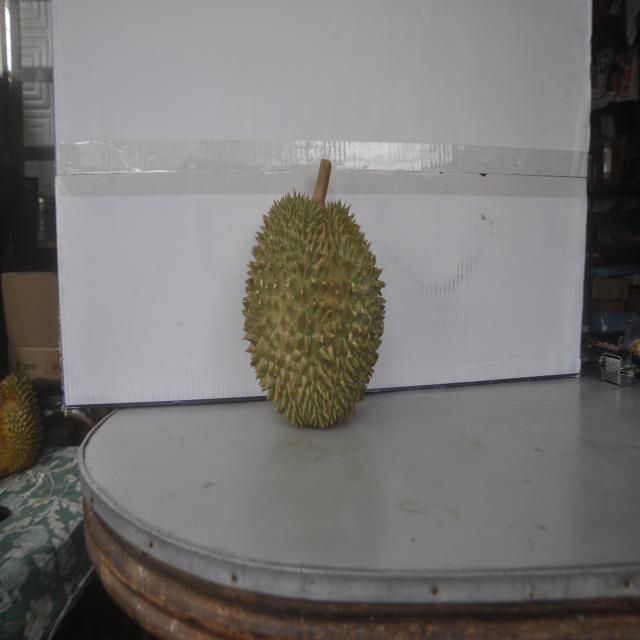mature: (240, 177, 385, 431), (0, 371, 43, 478)
